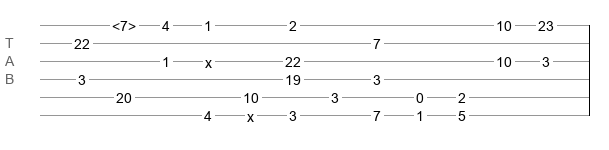0: (416, 90, 424, 100)
1: (162, 54, 170, 64), (204, 18, 212, 28), (416, 108, 424, 118)
10: (243, 90, 259, 100), (496, 18, 512, 28), (496, 54, 512, 64)
19: (285, 72, 301, 82)
2: (289, 18, 297, 28), (458, 90, 466, 100)
20: (116, 90, 132, 100)
22: (74, 36, 90, 46), (285, 54, 301, 64)
23: (538, 18, 554, 28)
3: (78, 72, 86, 82), (289, 108, 297, 118), (331, 90, 339, 100), (373, 72, 381, 82), (542, 54, 550, 64)
4: (162, 18, 170, 28), (204, 108, 212, 118)
5: (458, 108, 466, 118)
7: (373, 36, 381, 46), (373, 108, 381, 118)
harmonic: (112, 18, 136, 28)
x: (205, 55, 212, 63), (247, 109, 254, 117)
